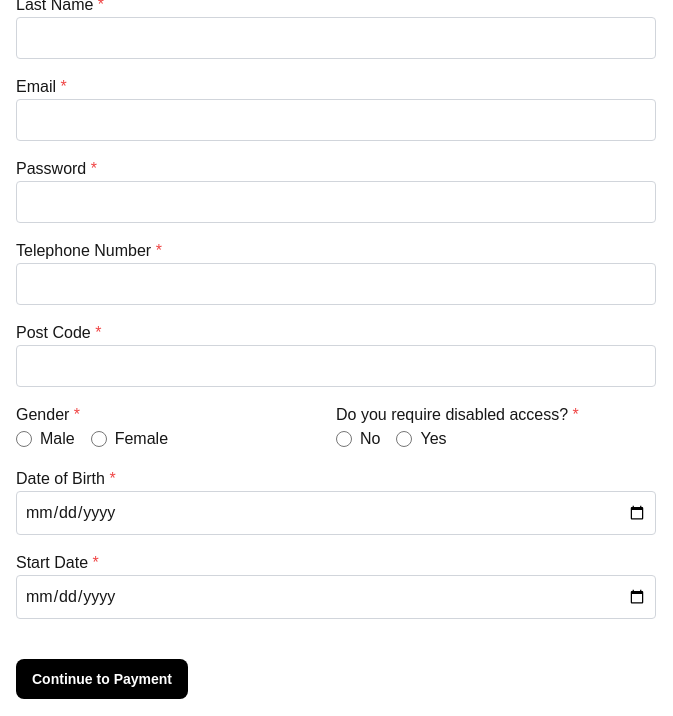
Test: your details page › should display error messages when form submitted with no valid inputs
This screenshot has width=673, height=716.
(page scrolled)
Click the button "Continue to Payment".
click(102, 679)  # box [16,659,188,699]
(page scrolled)
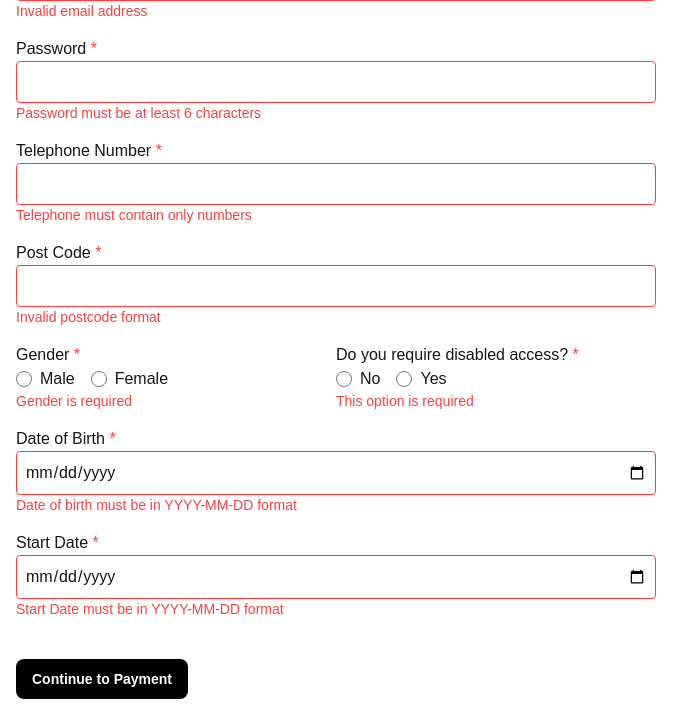
Expected: the text "Invalid email address" is shown, [16,3,148,19]
Expected: the text "Password must be at least 6 characters" is shown, [16,105,261,121]
Expected: the text "Gender is required" is shown, [16,393,132,409]
